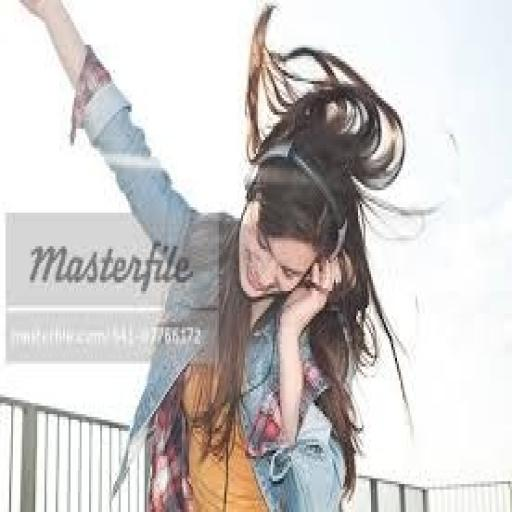listening_to_music: (15, 0, 430, 509)
